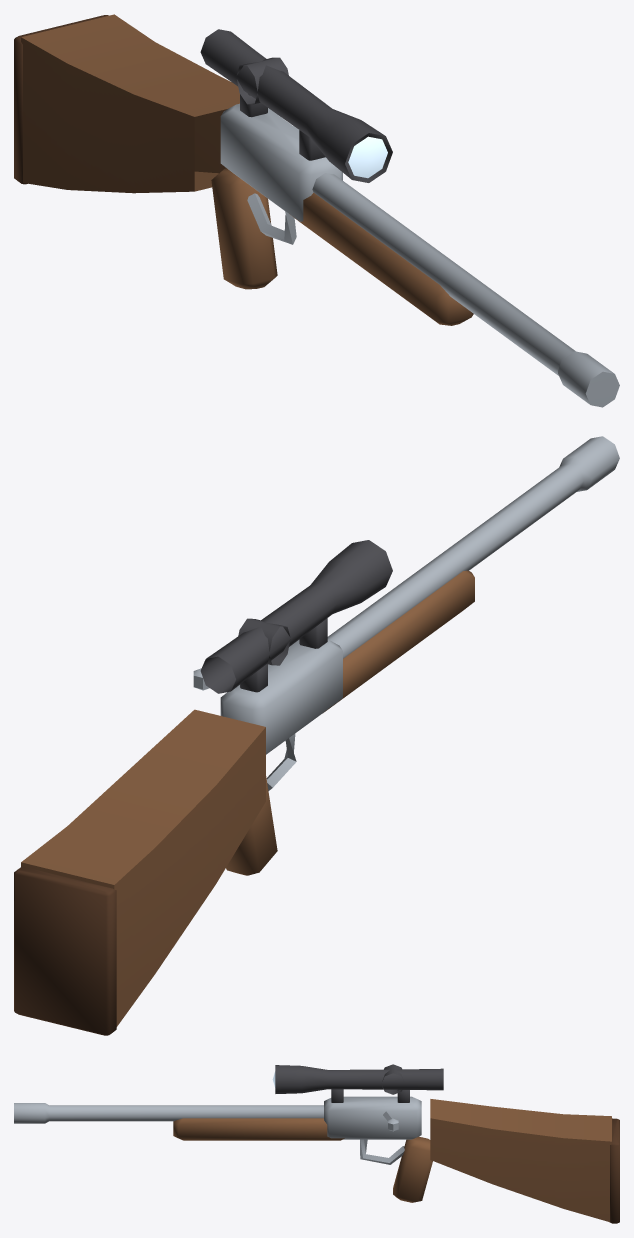
Rendered from rifle-2.glb.
3 renders of one model, top to bottom at view 1: azimuth 30°, elevation 25°; view 2: azimuth 150°, elevation 25°; view 3: azimuth 270°, elevation 25°, orthographic. The views are drawn at different scales.
Visible parts, largest first — view 1: rifle-2; view 2: rifle-2; view 3: rifle-2.
Boxes of the visible parts, x1,y1,x2,y2 form: rifle-2: (14, 14, 619, 407); rifle-2: (14, 436, 619, 1035); rifle-2: (14, 1064, 619, 1223).
Size of the model in its own units: 0.0859 by 0.1815 by 0.684.
